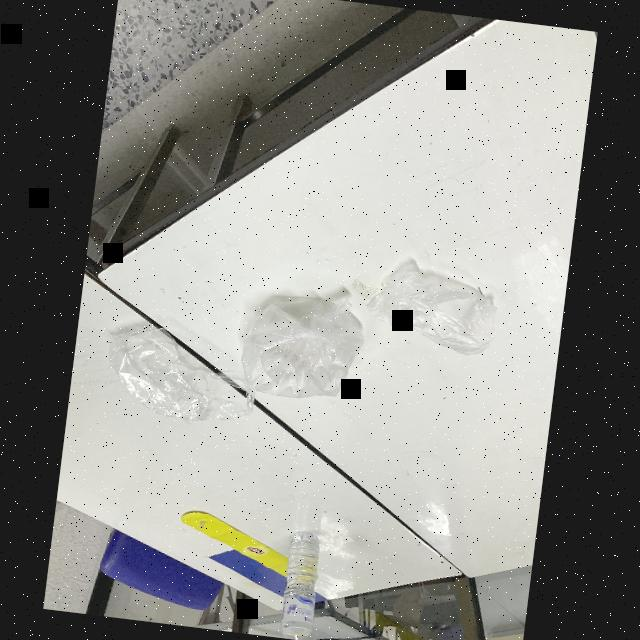plastic_bag: (84, 312, 265, 452), (225, 272, 382, 416)
scrap_plastic: (344, 253, 511, 363)
